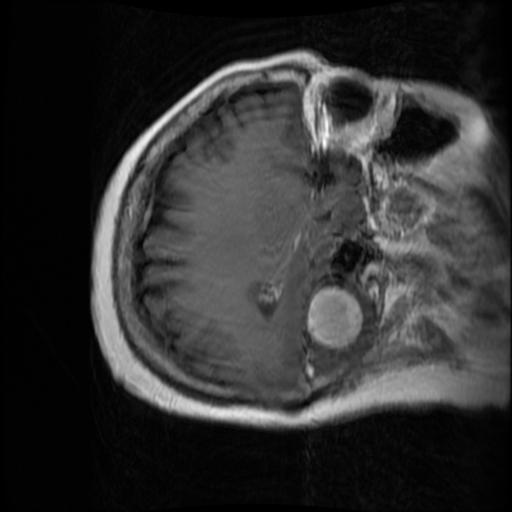meningioma: (305, 286, 362, 348)
